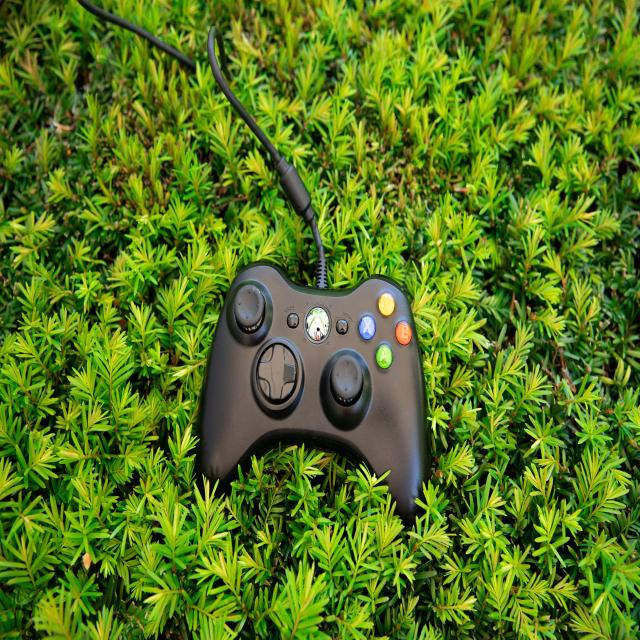Plastic: (196, 264, 431, 525)
